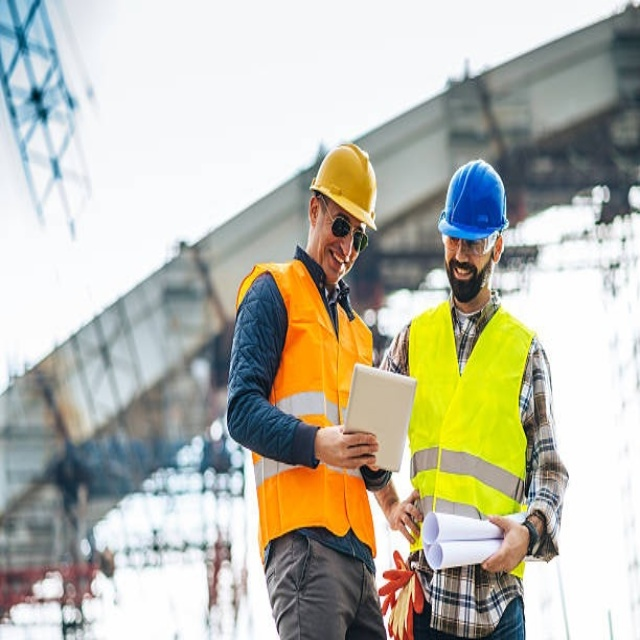Gafas: (318, 194, 369, 254), (444, 230, 499, 258)
Sin_guantes: (475, 514, 529, 576), (323, 425, 379, 471), (384, 485, 425, 547)
Sin_mascara: (324, 245, 350, 282), (449, 262, 475, 290)
